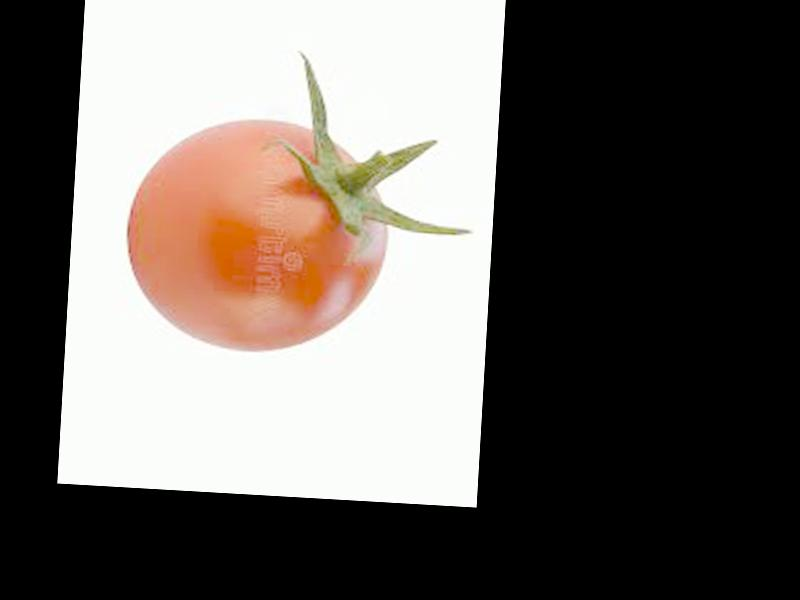Tomato: (120, 114, 392, 359)
